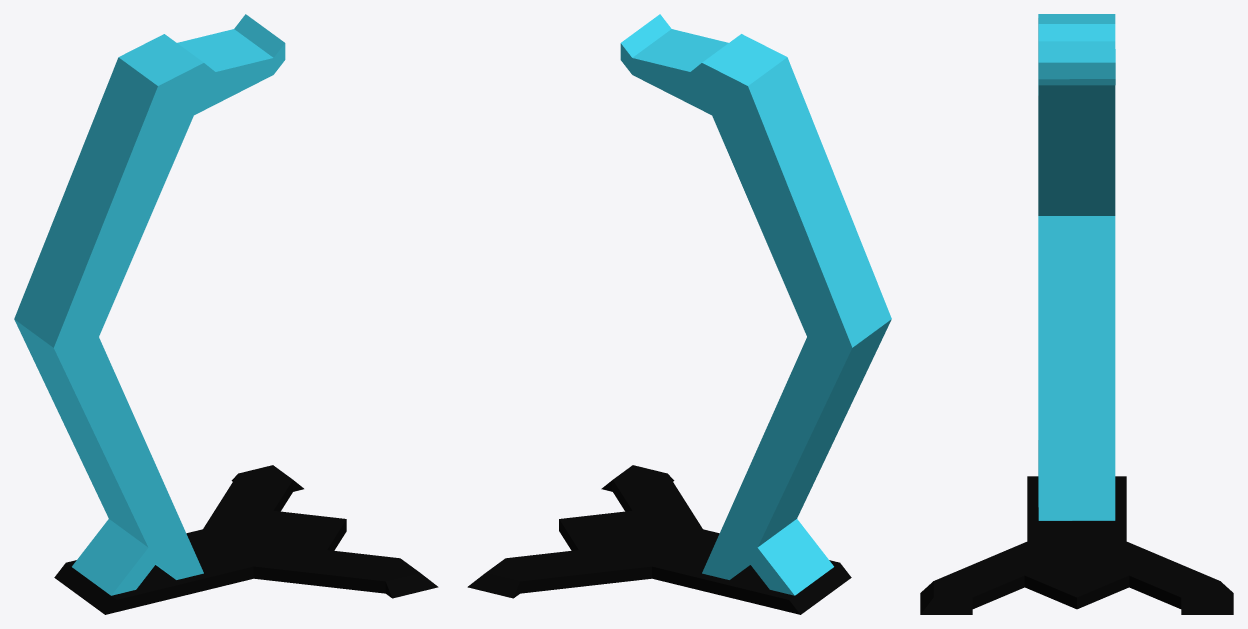
The model's file is EoDMHeadphoneStand.glb.
3 views of the same model, side by side, from view 1: azimuth 30°, elevation 25°; view 2: azimuth 150°, elevation 25°; view 3: azimuth 270°, elevation 25° (orthographic). The views are drawn at different scales.
Parts seen in each view (by area): view 1: Hanger, Base; view 2: Hanger, Base; view 3: Hanger, Base.
Boxes of the visible parts, x1,y1,x2,y2 form: Hanger: (14,14,285,595); Base: (54,465,438,614); Hanger: (620,14,891,595); Base: (467,465,851,614); Hanger: (1038,14,1115,520); Base: (920,476,1233,614).
Bounding box in the file's own units: 1.4 × 2.15 × 1.2.
